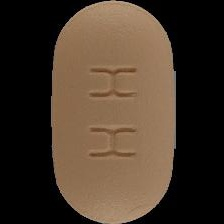43547-349: (0, 0, 224, 224)
